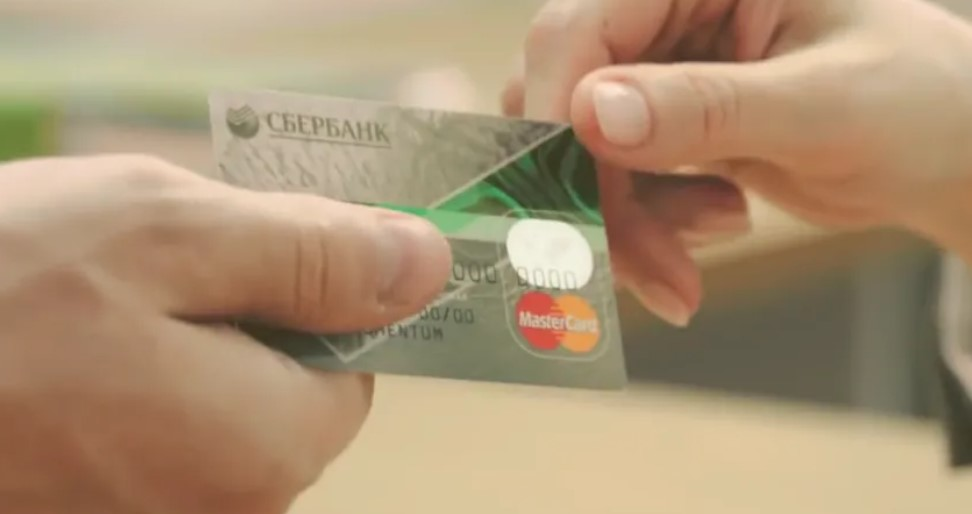card: (204, 81, 627, 391)
